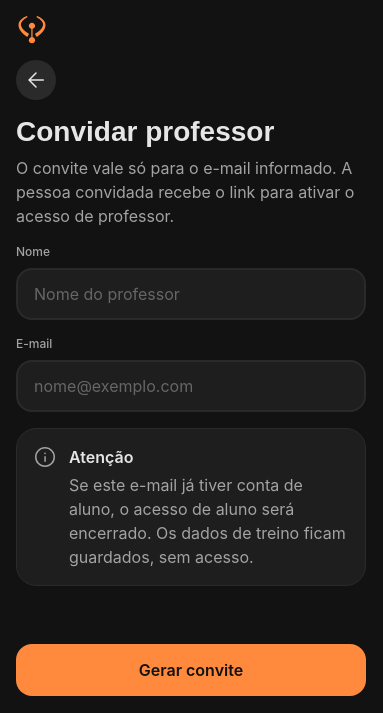
Scenario: Convidar professor (regras 87 e 92) › erro already_teacher do servidor aparece no campo de e-mail
In the field labelled "Nome": (191, 294) [34,270,348,318], type "Fernanda Lopes"
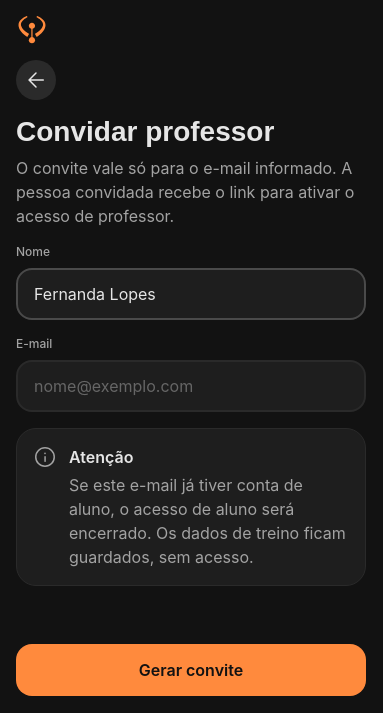
In the field labelled "E-mail": (191, 386) [34,362,348,410], type "fernanda@exemplo.com"
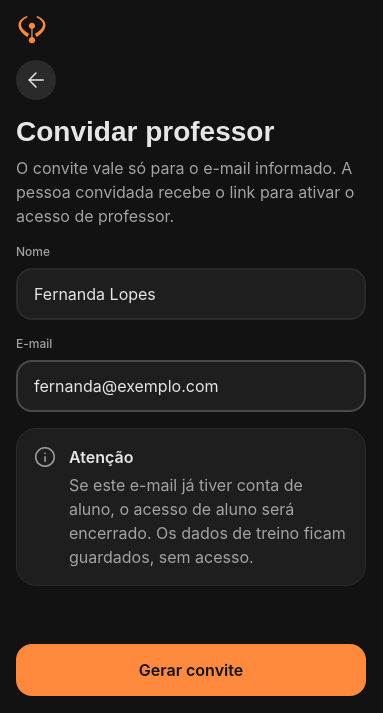
Click the button "Gerar convite": (191, 670) [16,644,366,696]
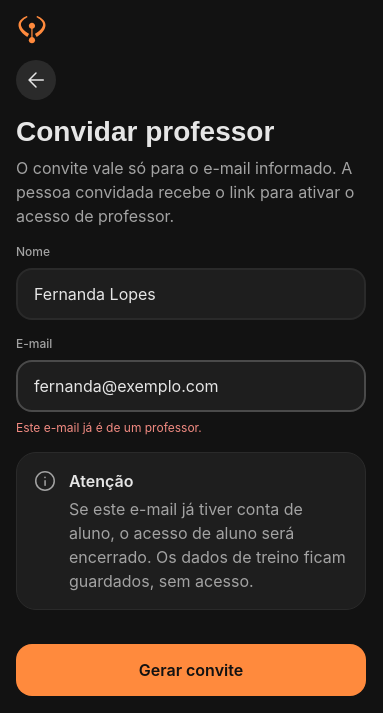
Check: the text "Este e-mail já é de um professor." is shown, box [16,420,202,435]
